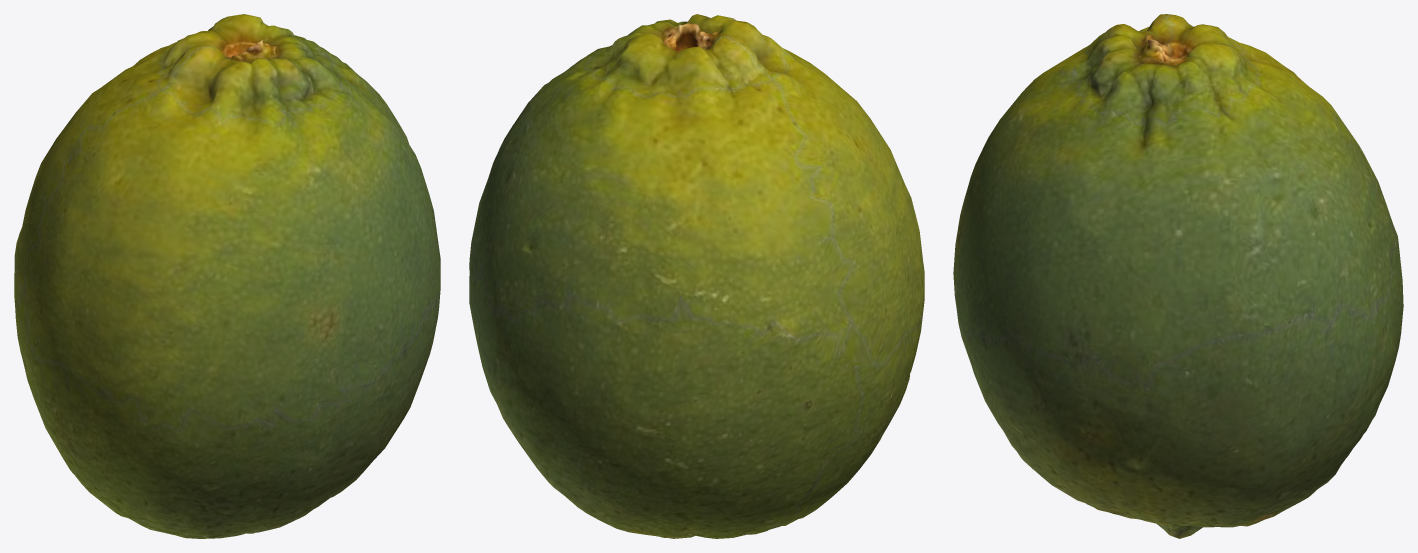
File: food_lime_01.glb
3 views of the same model, side by side, from view 1: azimuth 30°, elevation 25°; view 2: azimuth 150°, elevation 25°; view 3: azimuth 270°, elevation 25° (orthographic).
Parts seen in each view (by area): view 1: food_lime_01; view 2: food_lime_01; view 3: food_lime_01.
Boxes of the visible parts, <box> form: food_lime_01: <box>14,14,440,538</box>; food_lime_01: <box>469,14,924,538</box>; food_lime_01: <box>953,14,1403,538</box>.
Bounding box in the file's own units: 0.0601 × 0.0754 × 0.0613.
1 material, 1 textured.
